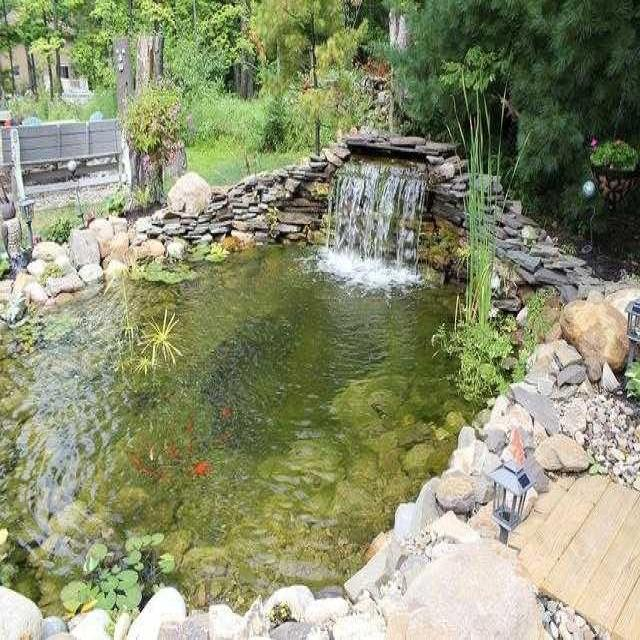Ponds: (1, 128, 597, 640)
